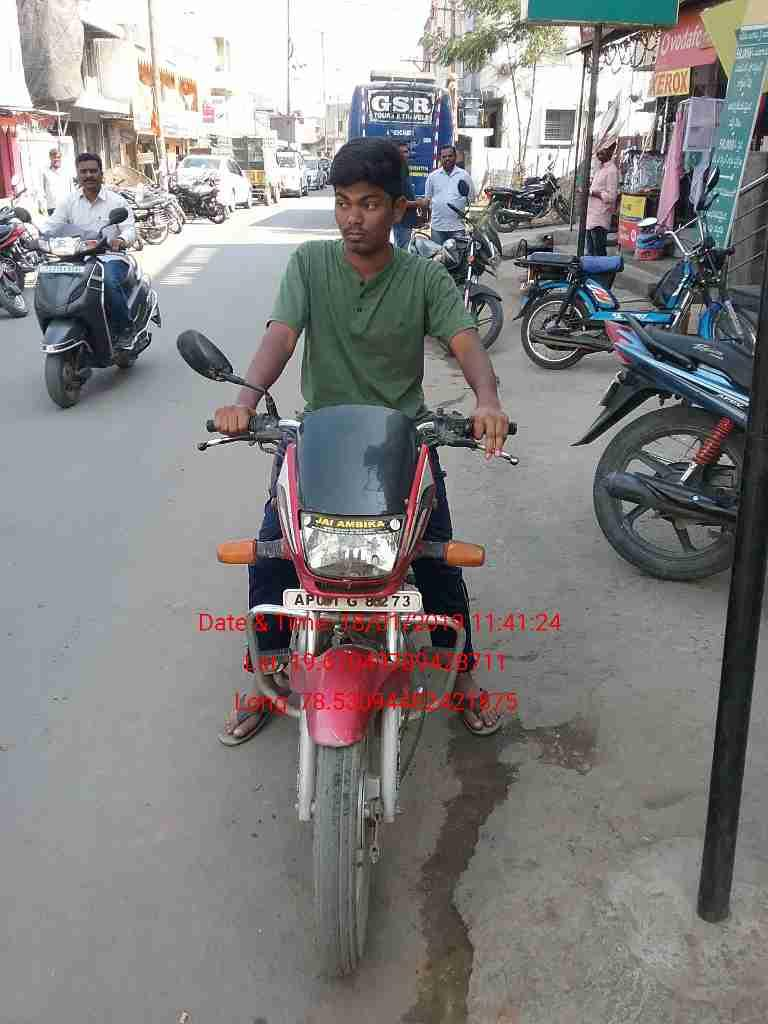plate: (277, 585, 425, 611), (35, 263, 90, 276)
